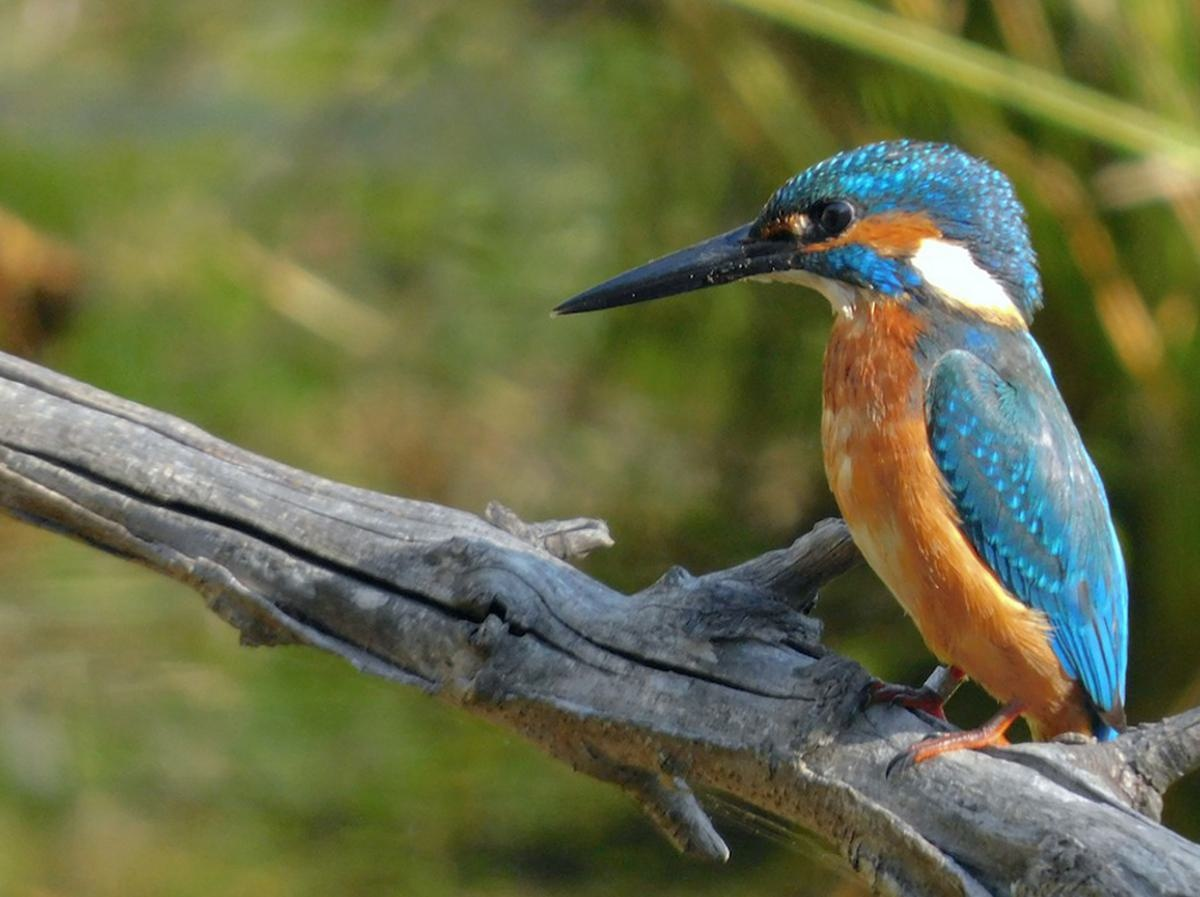kingfisher: (565, 128, 1151, 769)
